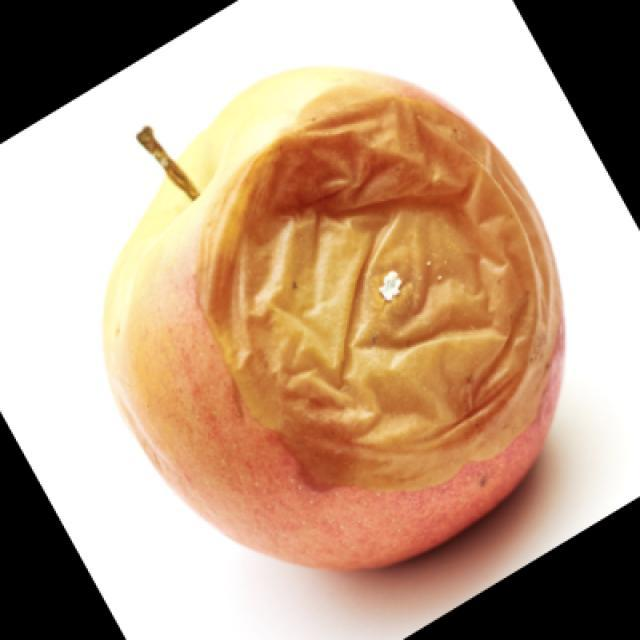Rotten: (132, 75, 565, 568)
